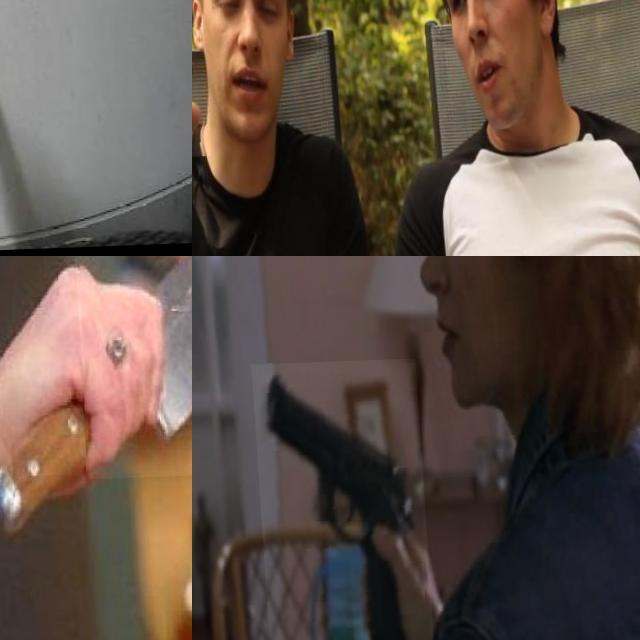-: (65, 256, 192, 480), (0, 0, 89, 167), (192, 0, 227, 158)
gun-knife-thesis - v11 Yolov5 augmented: (247, 361, 427, 640)
